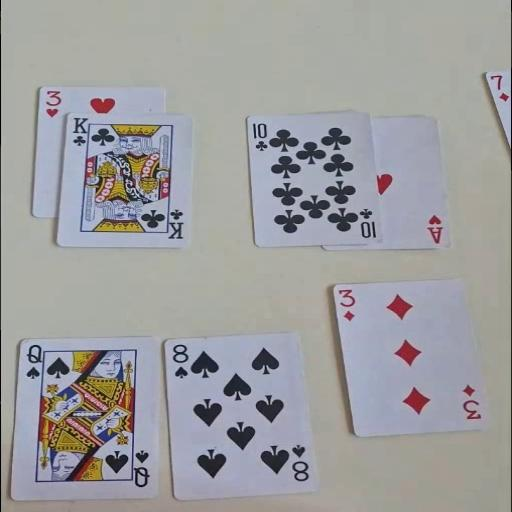10: (250, 121, 270, 152), (358, 207, 376, 239)
3: (460, 382, 482, 421), (336, 287, 356, 322), (42, 89, 62, 118)
7: (488, 73, 510, 102)
8: (288, 442, 310, 482), (170, 342, 190, 379)
A: (425, 213, 444, 244)
K: (162, 205, 185, 239), (70, 114, 88, 146), (70, 131, 88, 147)
Q: (130, 448, 151, 489), (23, 342, 43, 380)
